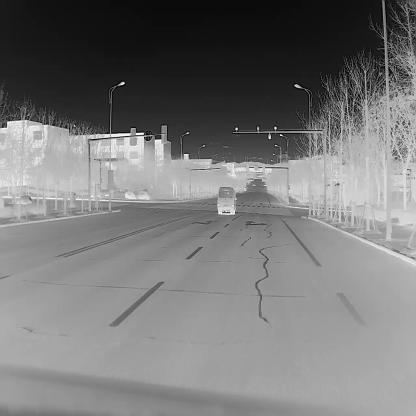car: (217, 185, 235, 215), (243, 185, 247, 190), (252, 183, 256, 187), (263, 184, 267, 187)
